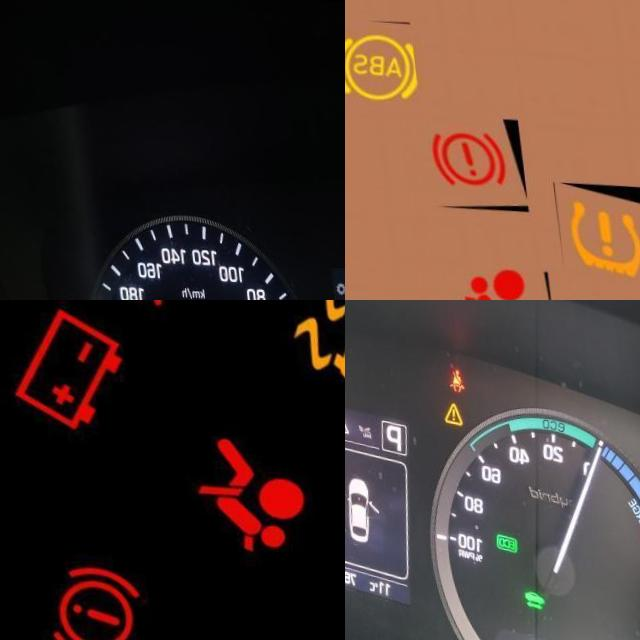Central Warning lamp: (438, 395, 459, 420)
